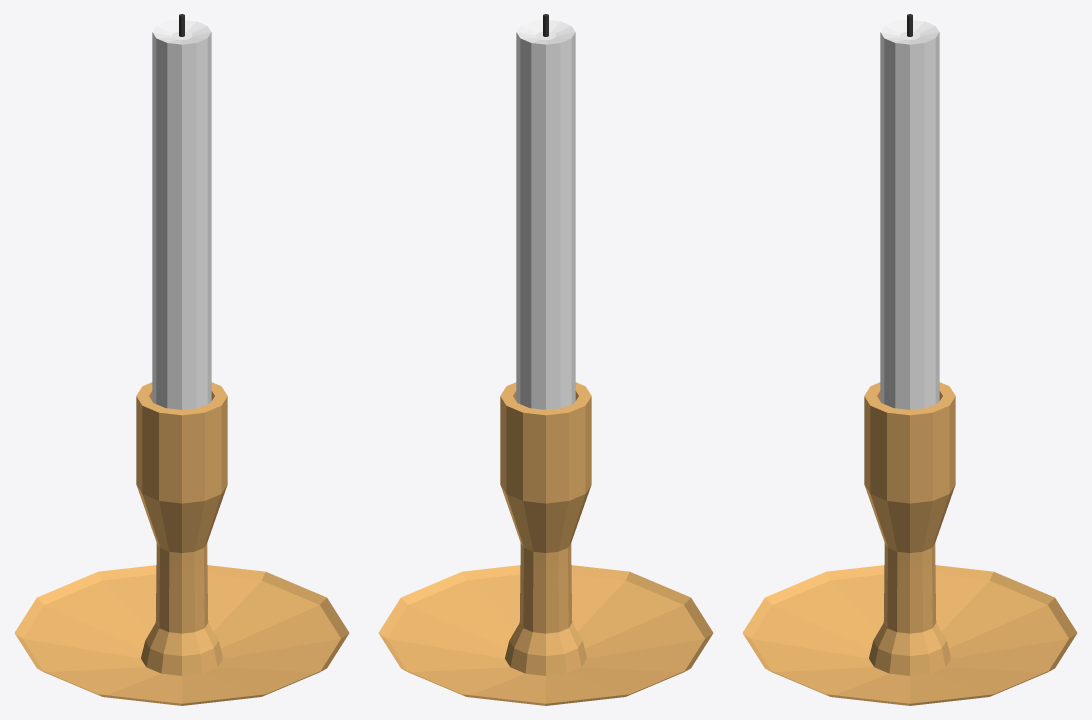
File: Candle_Stand_Small.fbx
3 renders of one model, left to right at view 1: azimuth 30°, elevation 25°; view 2: azimuth 150°, elevation 25°; view 3: azimuth 270°, elevation 25°, orthographic.
Parts seen in each view (by area): view 1: Candle_Small; view 2: Candle_Small; view 3: Candle_Small.
Part boxes in pixels (left/top/right/bottom): Candle_Small: left=14, top=14, right=349, bottom=705; Candle_Small: left=378, top=14, right=713, bottom=705; Candle_Small: left=742, top=14, right=1077, bottom=705.
Bounding box in the file's own units: 0.0685 × 0.1452 × 0.0685.
